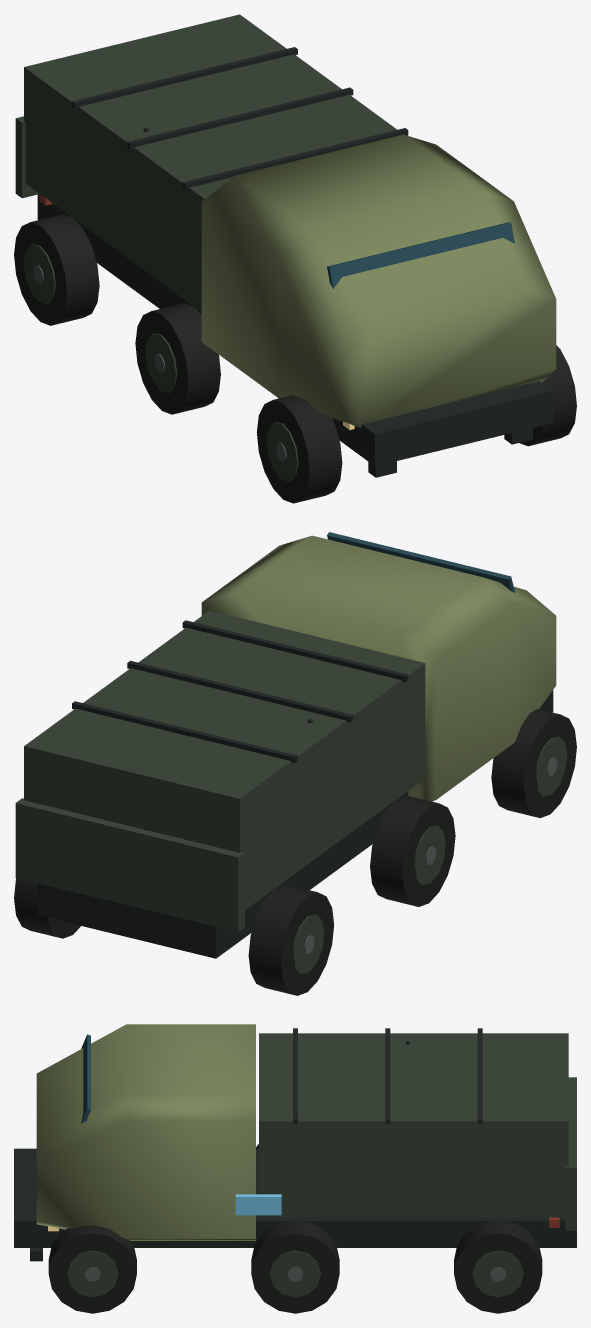
The model's file is logiTruck.glb.
3 renders of one model, top to bottom at view 1: azimuth 30°, elevation 25°; view 2: azimuth 150°, elevation 25°; view 3: azimuth 270°, elevation 25°, orthographic. The views are drawn at different scales.
Parts seen in each view (by area): view 1: armor, stowage, rubber, dark, trim, glass; view 2: stowage, armor, trim, rubber, dark, glass; view 3: stowage, armor, rubber, dark, trim, marking, glass, steel.
Part boxes in pixels (x1,y1,x2,y2): armor: (201, 134, 556, 427); stowage: (24, 14, 396, 311); rubber: (14, 214, 576, 503); dark: (37, 47, 553, 477); trim: (15, 116, 298, 481); glass: (327, 222, 514, 288); stowage: (24, 610, 425, 909); armor: (201, 535, 556, 801); trim: (15, 736, 567, 974); rubber: (14, 709, 576, 995); dark: (37, 620, 553, 958); glass: (327, 532, 514, 592); stowage: (259, 1033, 568, 1217); armor: (36, 1024, 255, 1240); rubber: (48, 1144, 542, 1313); dark: (14, 1028, 576, 1261); trim: (67, 1077, 576, 1297); marking: (235, 1194, 281, 1215); glass: (81, 1034, 90, 1123); steel: (85, 1267, 505, 1281).
Bounding box in the file's own units: 2.84 × 2.4 × 6.1.
